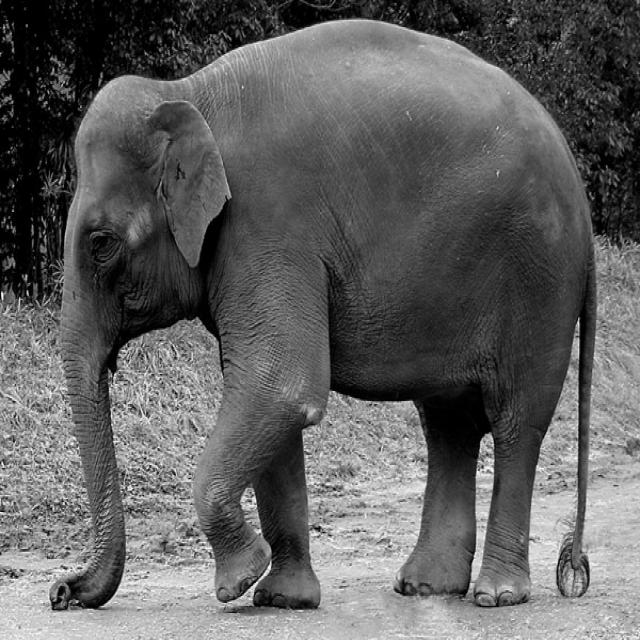Elephant: (48, 17, 597, 613)
